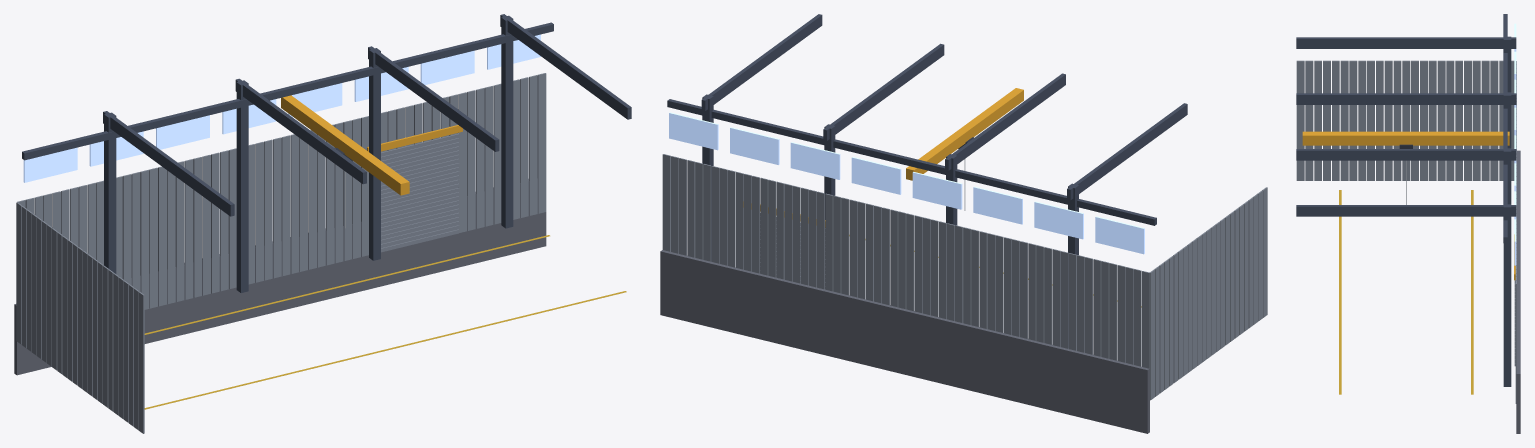
File: factoryHall.glb
The picture shows the model from 3 angles, left to right: view 1: azimuth 30°, elevation 25°; view 2: azimuth 150°, elevation 25°; view 3: azimuth 270°, elevation 25°; orthographic projection. The views are drawn at different scales.
Visible parts, largest first — view 1: backWall, sideWall, plinth, trusses, columns, door, windows, beam, floorLines; view 2: backWall, plinth, sideWall, trusses, windows, beam, columns; view 3: sideWall, trusses, beam, columns, plinth, floorLines, windows, backWall, door.
Boxes of the visible parts, x1,y1,x2,y2 form: backWall: [17, 73, 546, 309]; sideWall: [16, 202, 144, 433]; plinth: [14, 179, 546, 375]; trusses: [22, 14, 631, 216]; columns: [104, 15, 513, 292]; door: [367, 125, 462, 252]; windows: [23, 34, 540, 182]; beam: [281, 95, 409, 195]; floorLines: [144, 235, 626, 409]; backWall: [662, 154, 1149, 368]; plinth: [660, 250, 1149, 433]; sideWall: [1149, 187, 1267, 400]; trusses: [667, 14, 1187, 225]; windows: [669, 112, 1144, 254]; beam: [906, 88, 1023, 180]; columns: [702, 94, 1078, 348]; sideWall: [1296, 60, 1514, 180]; trusses: [1296, 14, 1516, 243]; beam: [1302, 131, 1509, 145]; columns: [1503, 36, 1511, 386]; plinth: [1516, 150, 1520, 433]; floorLines: [1339, 190, 1473, 394]; windows: [1514, 23, 1516, 265]; backWall: [1515, 61, 1516, 403]; door: [1514, 234, 1515, 366].
Size of the model in its own units: 24.03 by 10.5 by 10.2.
